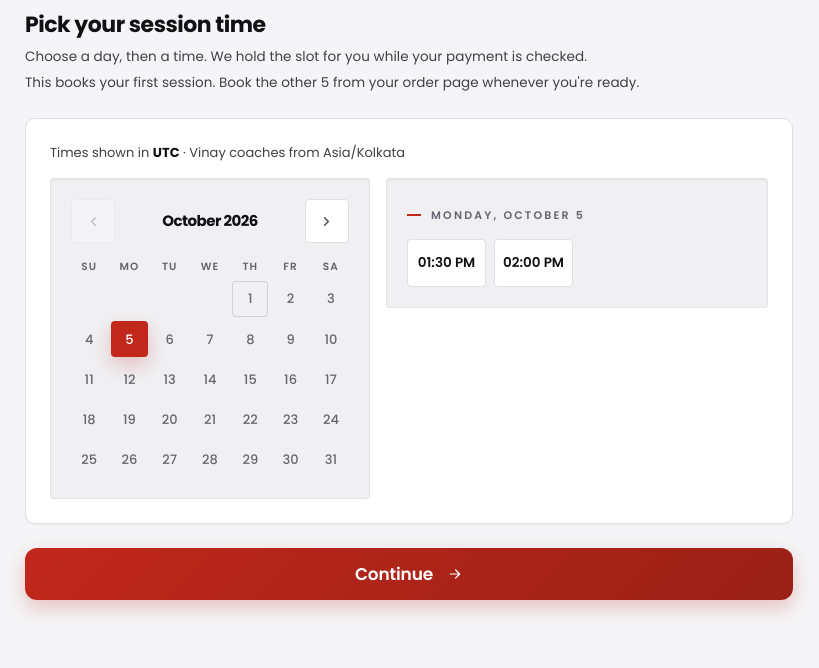
it: ScheduleStep › will not continue without a time
The width and height of the screenshot is (819, 668).
Click the button "Continue".
click(409, 574)  # box [25, 548, 793, 600]
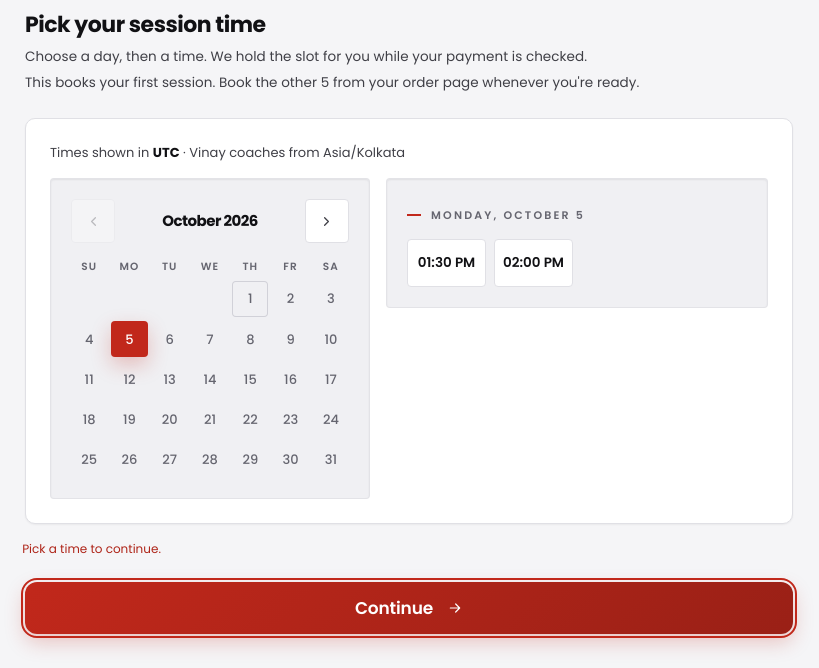
Check: the message reads "Pick a time to continue.", box [21, 540, 160, 557]
